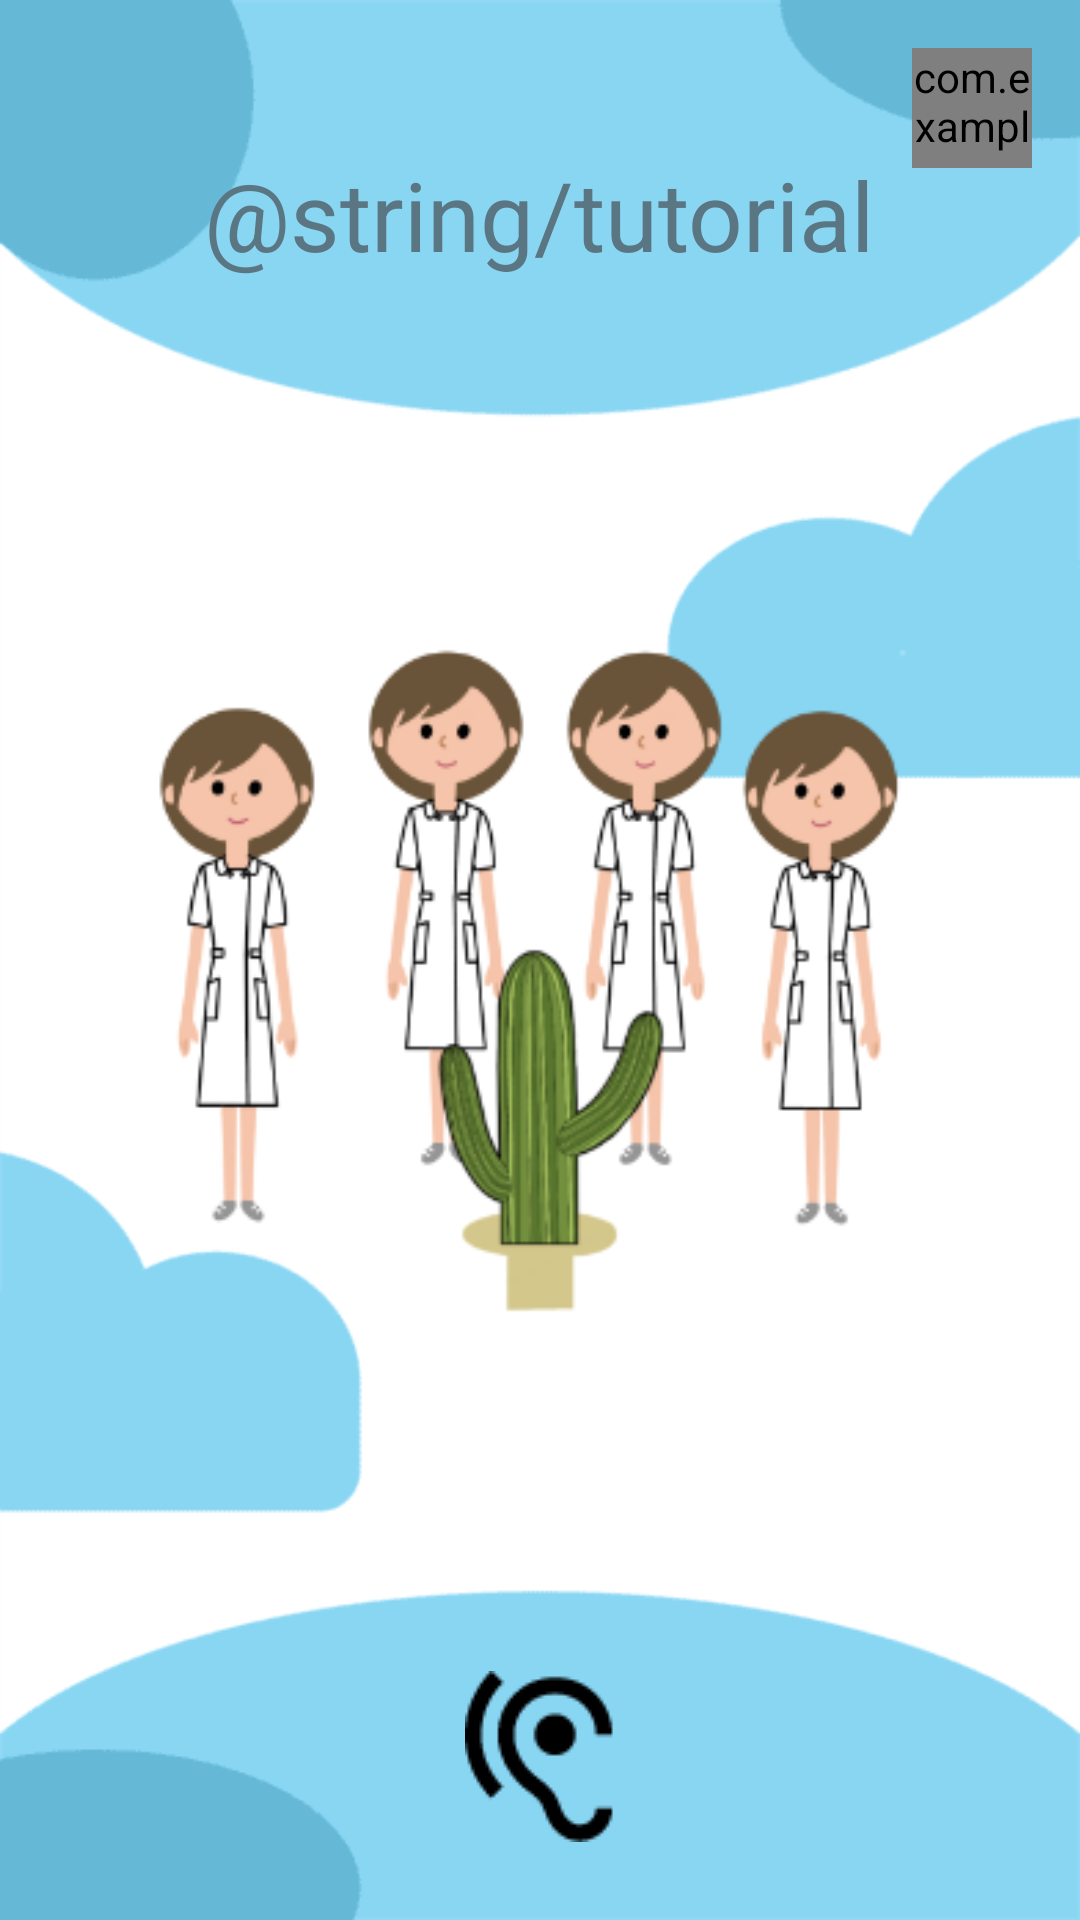

Icons on this 1080w x 1920h Android screen, each with the point to tap as (x,y):
pictogram oortje: (539,1756)
